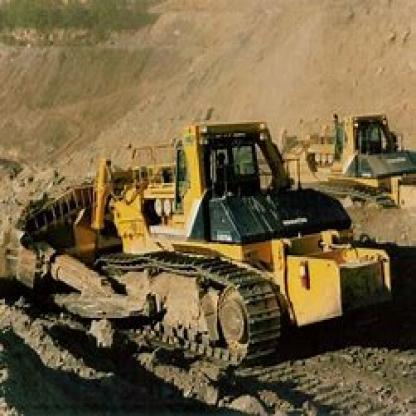bull_dozer/loader/grader: (12, 111, 402, 373)
